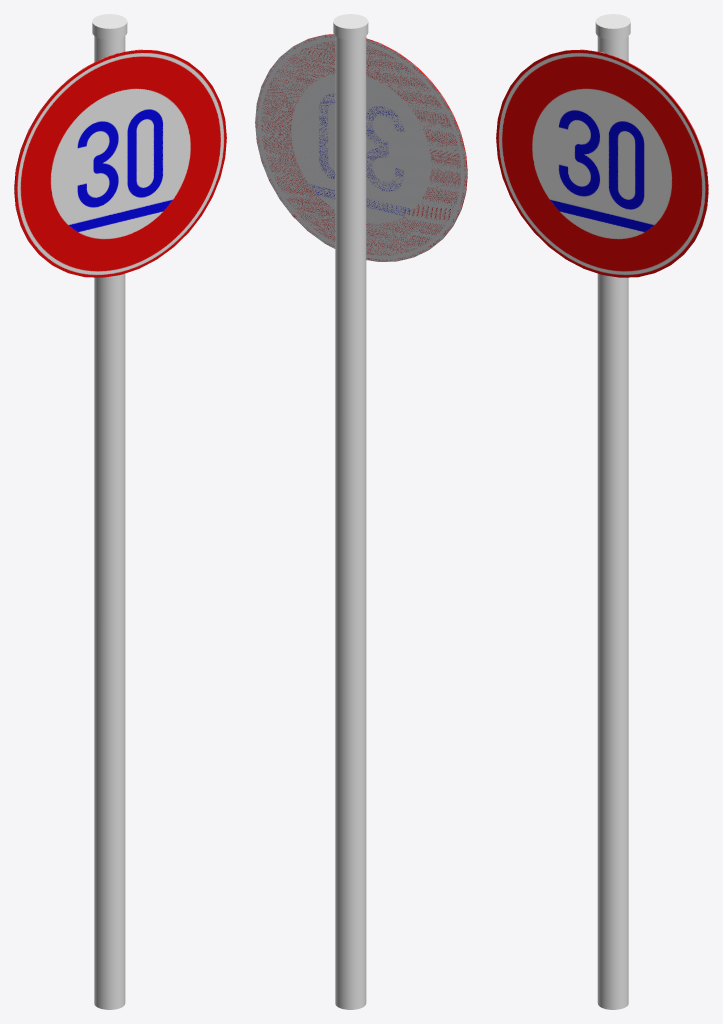
3 renders of one model, left to right at view 1: azimuth 30°, elevation 25°; view 2: azimuth 150°, elevation 25°; view 3: azimuth 330°, elevation 25°, orthographic.
Parts seen in each view (by area): view 1: group_0, 支柱1 (×2); view 2: 支柱1 (×2), group_0; view 3: group_0, 支柱1 (×2).
Part boxes in pixels (box(x1,y1,x2,y2)): group_0: box(14, 49, 226, 277); 支柱1 (×2): box(92, 14, 127, 1009); 支柱1 (×2): box(333, 14, 368, 1009); group_0: box(255, 34, 467, 261); group_0: box(496, 49, 708, 277); 支柱1 (×2): box(595, 14, 630, 1009).
Size of the model in its own units: 23.15 by 3.75 by 102.
3 materials, 1 textured.
